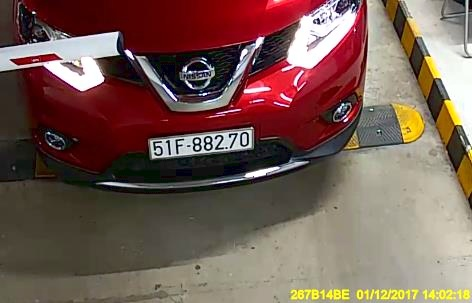plate: (146, 128, 256, 156)
